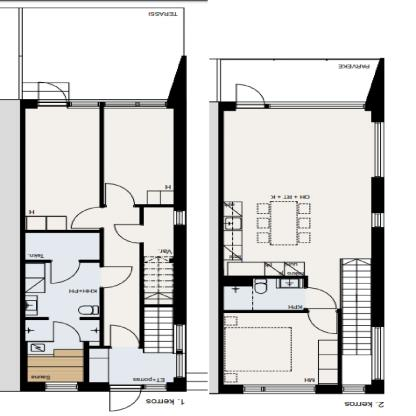door: (302, 286, 337, 336), (65, 204, 105, 231), (32, 82, 72, 108), (232, 81, 268, 108), (108, 384, 140, 412), (102, 267, 134, 292), (104, 182, 134, 206), (50, 260, 80, 284), (52, 320, 82, 343), (113, 222, 144, 244), (110, 324, 138, 347)
window: (241, 384, 317, 394), (270, 101, 364, 109), (372, 122, 384, 177), (373, 326, 382, 380), (103, 102, 165, 108), (43, 383, 79, 391), (342, 383, 366, 394), (70, 100, 98, 107), (372, 212, 384, 228), (147, 382, 168, 390)
zone: (26, 108, 181, 382), (221, 109, 371, 385), (21, 6, 183, 101), (23, 103, 105, 232), (224, 312, 341, 384), (26, 232, 99, 344), (218, 59, 382, 104), (103, 107, 172, 206), (225, 277, 307, 312), (26, 344, 84, 382)
